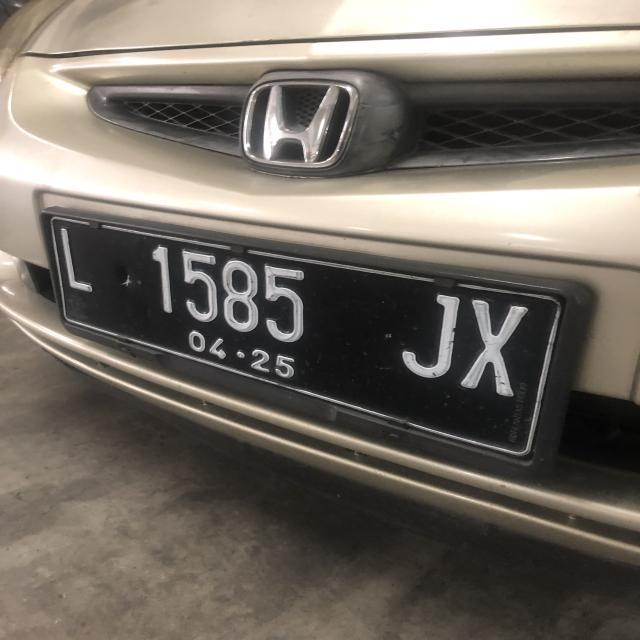1: (145, 243, 182, 320)
5: (259, 259, 315, 346), (180, 248, 222, 326)
8: (221, 254, 262, 338)
J: (402, 284, 462, 382)
L: (59, 223, 100, 296)
X: (466, 295, 530, 400)
